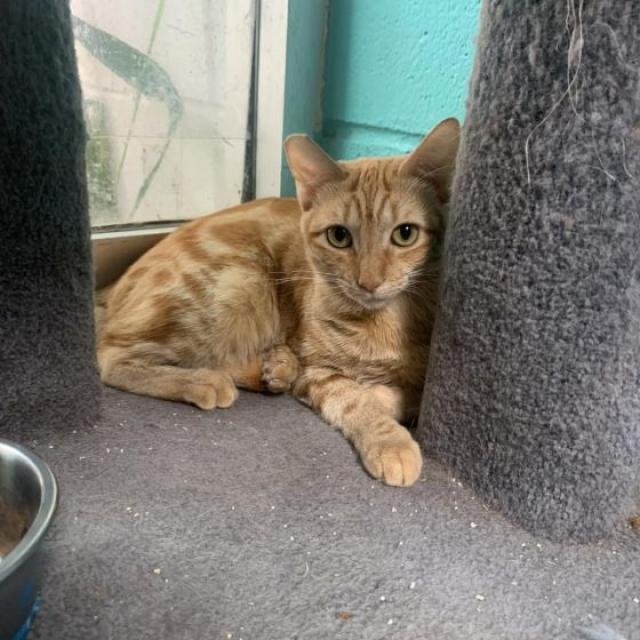domestic_short_hair_cat: (269, 113, 472, 330)
